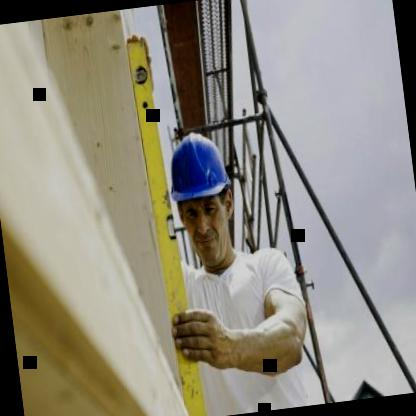helmet: (158, 112, 246, 272)
